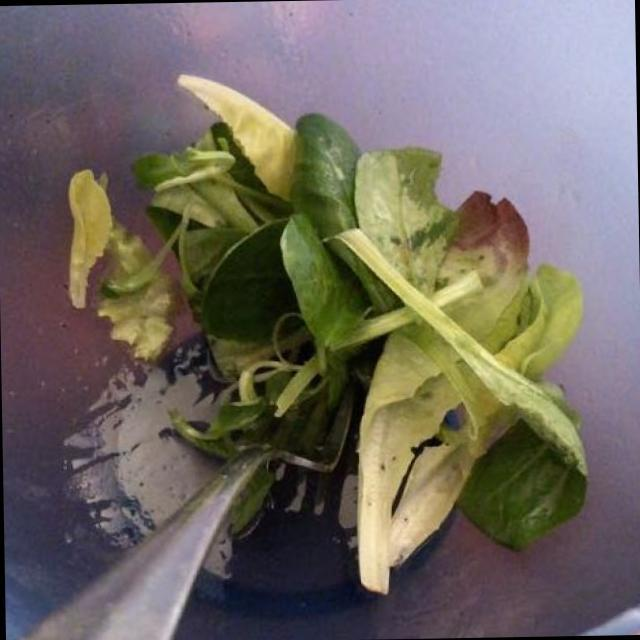Green Salad: (74, 80, 589, 562)
